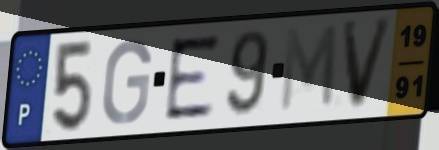5: (49, 35, 94, 135)
9: (222, 27, 271, 119)
E: (163, 31, 222, 124)
G: (99, 36, 154, 127)
M: (277, 22, 340, 117)
V: (340, 14, 397, 115)
